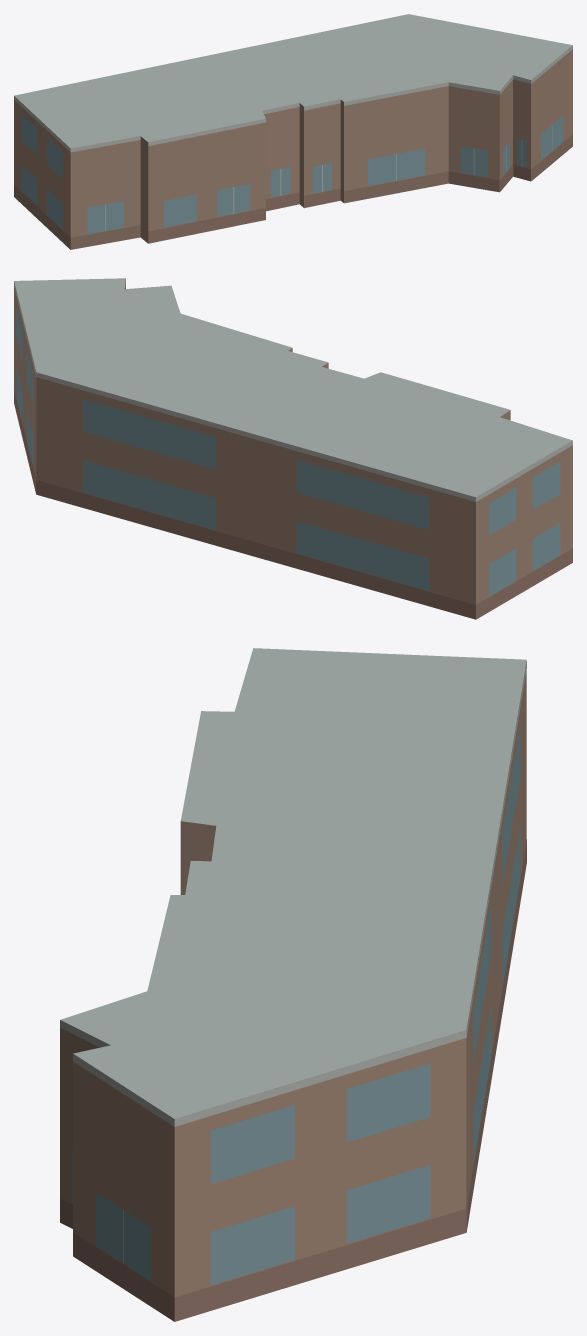
File: survey-upis-32939257.glb
3 views of the same model, one above another, from view 1: azimuth 30°, elevation 25°; view 2: azimuth 150°, elevation 25°; view 3: azimuth 270°, elevation 25° (orthographic). The views are drawn at different scales.
Visible parts, largest first — view 1: survey-upis-32939257.tmp; view 2: survey-upis-32939257.tmp; view 3: survey-upis-32939257.tmp.
Part boxes in pixels (bbox=[...]): survey-upis-32939257.tmp: bbox=[14, 14, 572, 249]; survey-upis-32939257.tmp: bbox=[14, 278, 572, 619]; survey-upis-32939257.tmp: bbox=[60, 648, 526, 1321].
Size of the model in its own units: 31.4 by 6.3 by 13.16.
